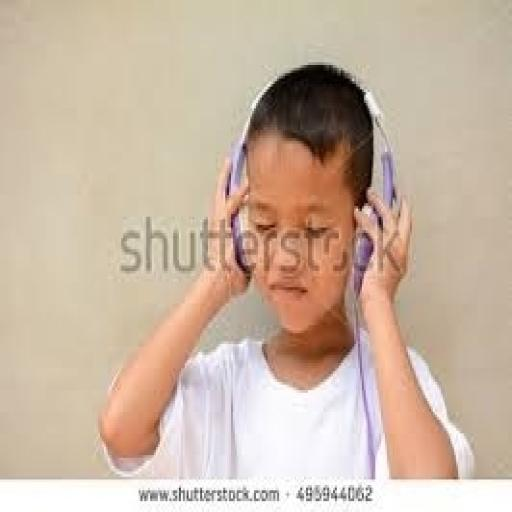listening_to_music: (94, 60, 476, 480)
